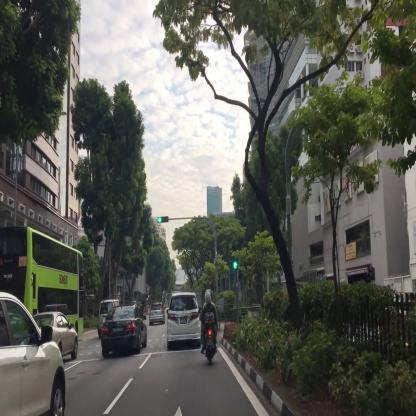green_traffic_light: (157, 217, 169, 221)
